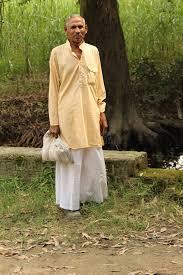Human: (34, 11, 116, 218)
